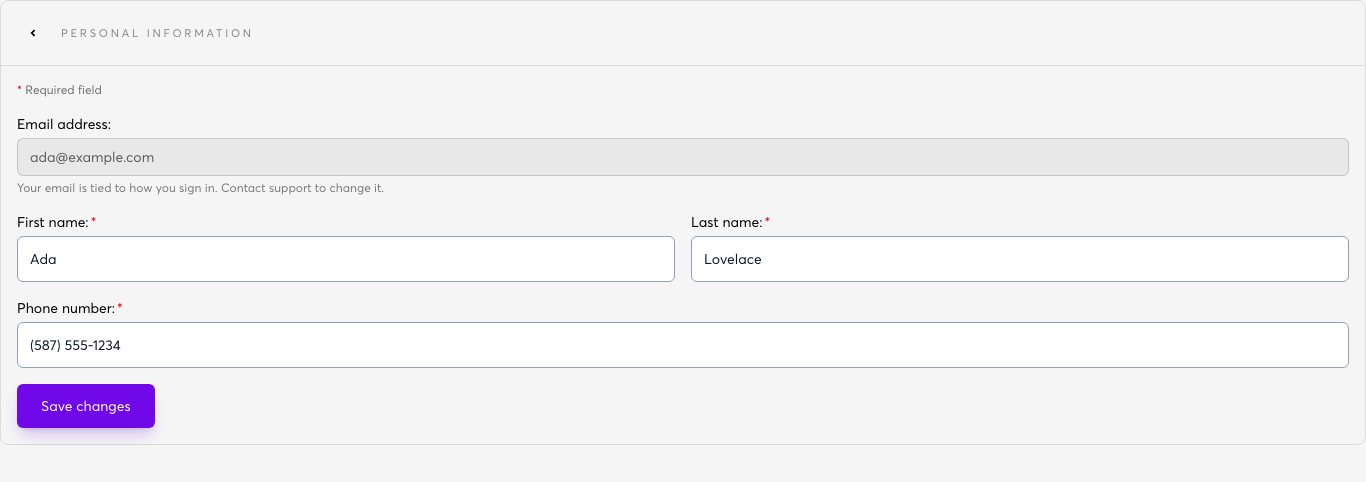
Test: blocks Last name: <script> before any request
This screenshot has width=1366, height=482.
Replace the text in the field labelled "Last name:" with "<script>": (1020, 259) 691,236 -> 1349,282
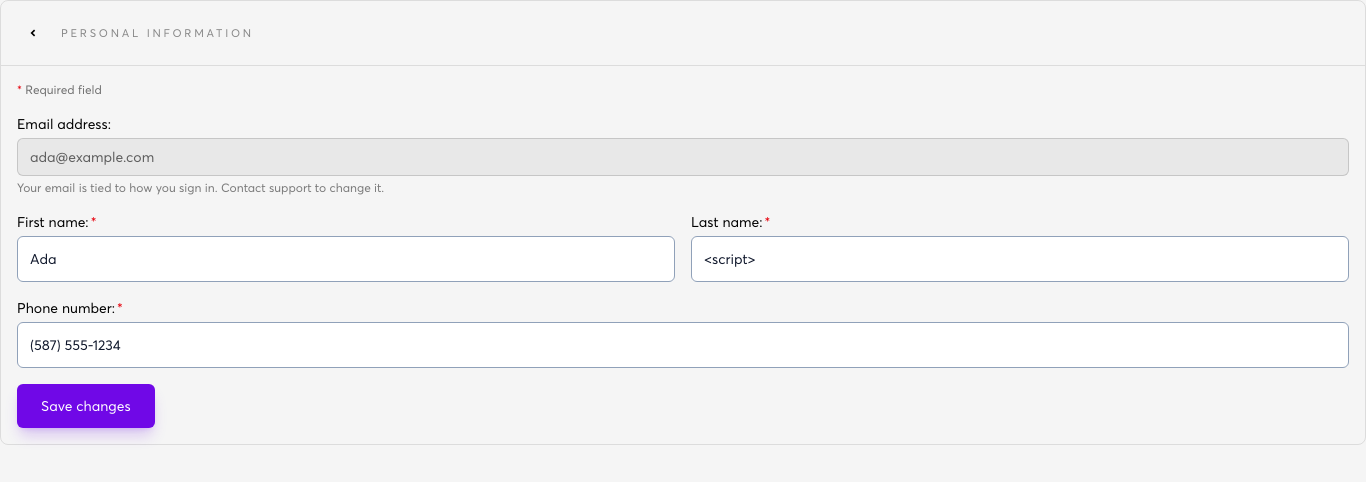
Click the button "Save changes": click(86, 406) 17,384 -> 155,428
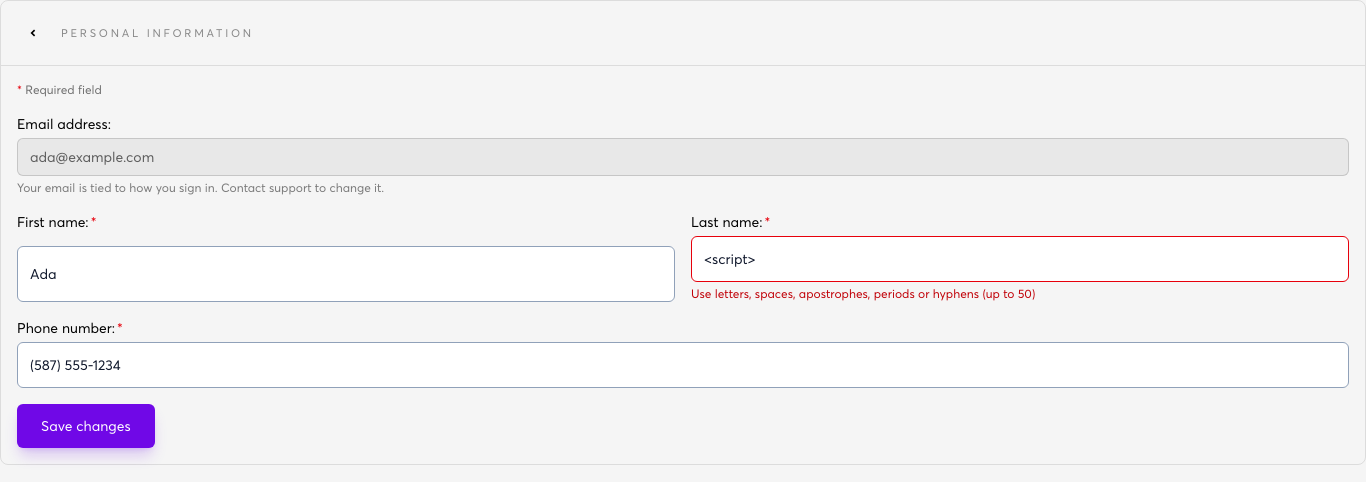
Now the text "Use letters, spaces, apostrophes, periods or hyphens (up to 50)" is shown, box 691,286 -> 1035,301
